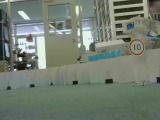speed_10: (127, 38, 145, 57)
